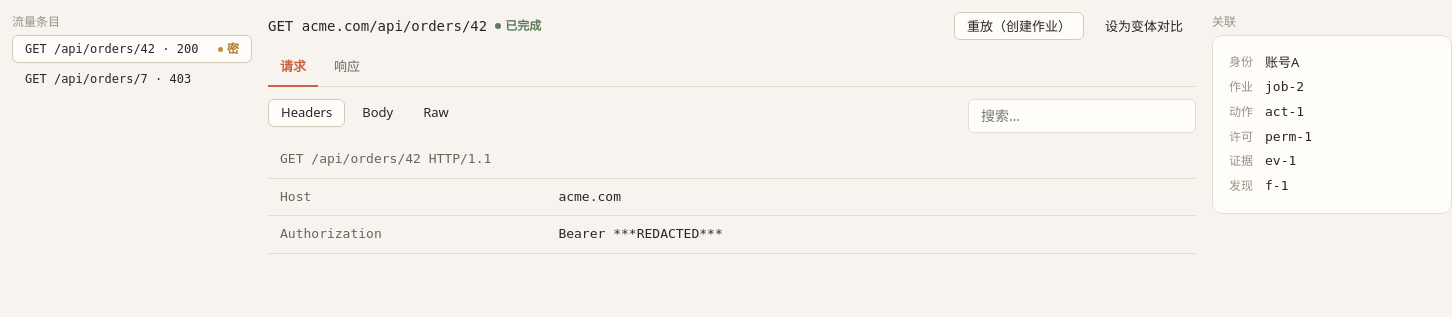
Test: TrafficPage（§16.16） › 三栏 + Replay 显示实际 Job ID（非假设已发送）
The image size is (1452, 317).
Click the button "重放（创建作业）".
click(1019, 26)  # box [954,12,1084,40]
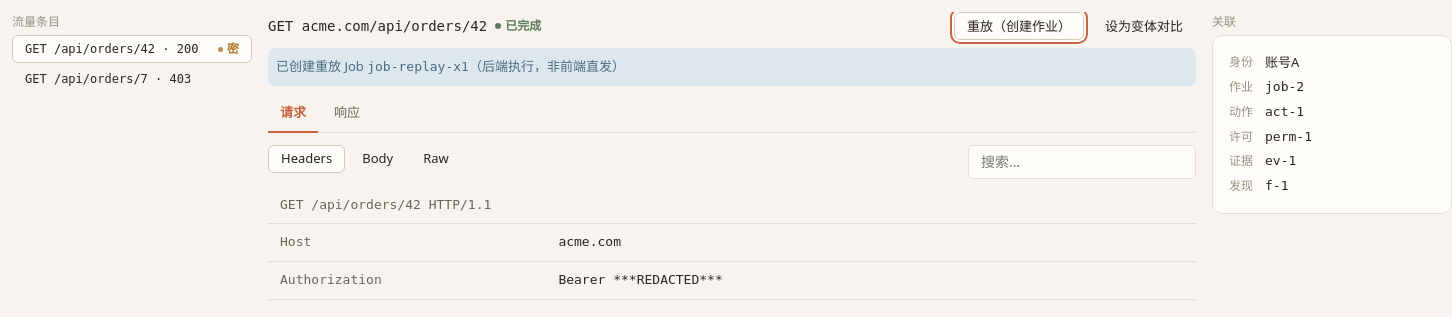
expect the text "已创建重放 Job job-replay-x1（后端执行，非前端直发）" is shown: met, box [268,48,1196,86]
